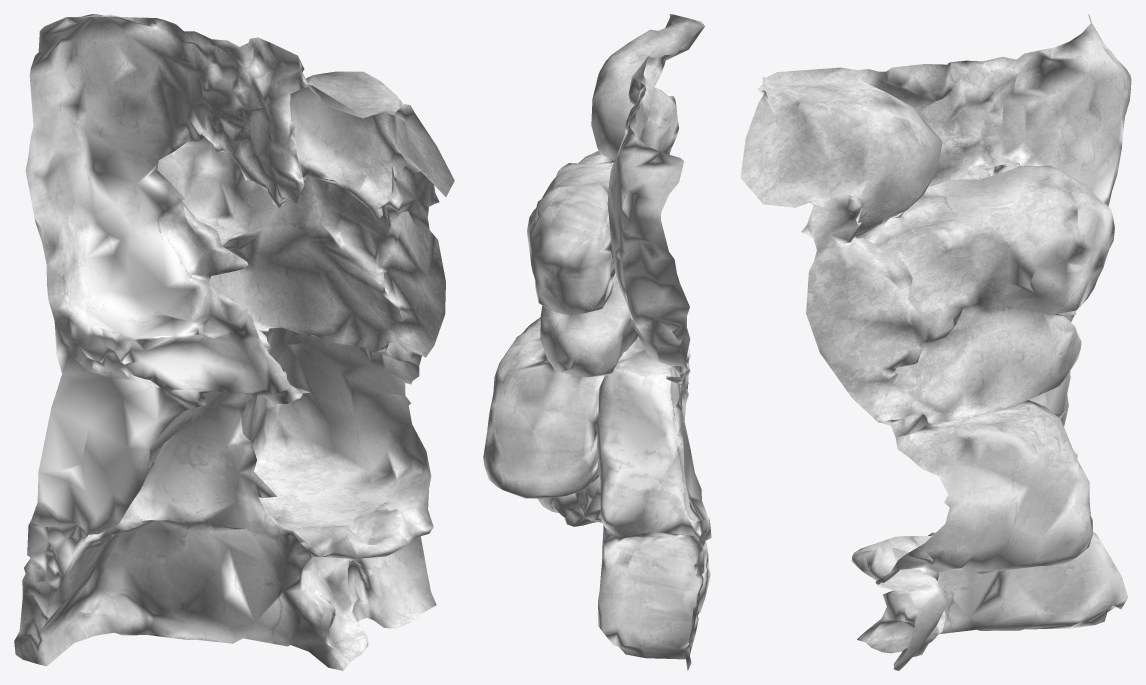
The model's file is rock_spire.glb.
3 views of the same model, side by side, from view 1: azimuth 30°, elevation 25°; view 2: azimuth 150°, elevation 25°; view 3: azimuth 270°, elevation 25° (orthographic). The views are drawn at different scales.
Size of the model in its own units: 3.46 by 6.73 by 4.
1 material, 1 textured.
